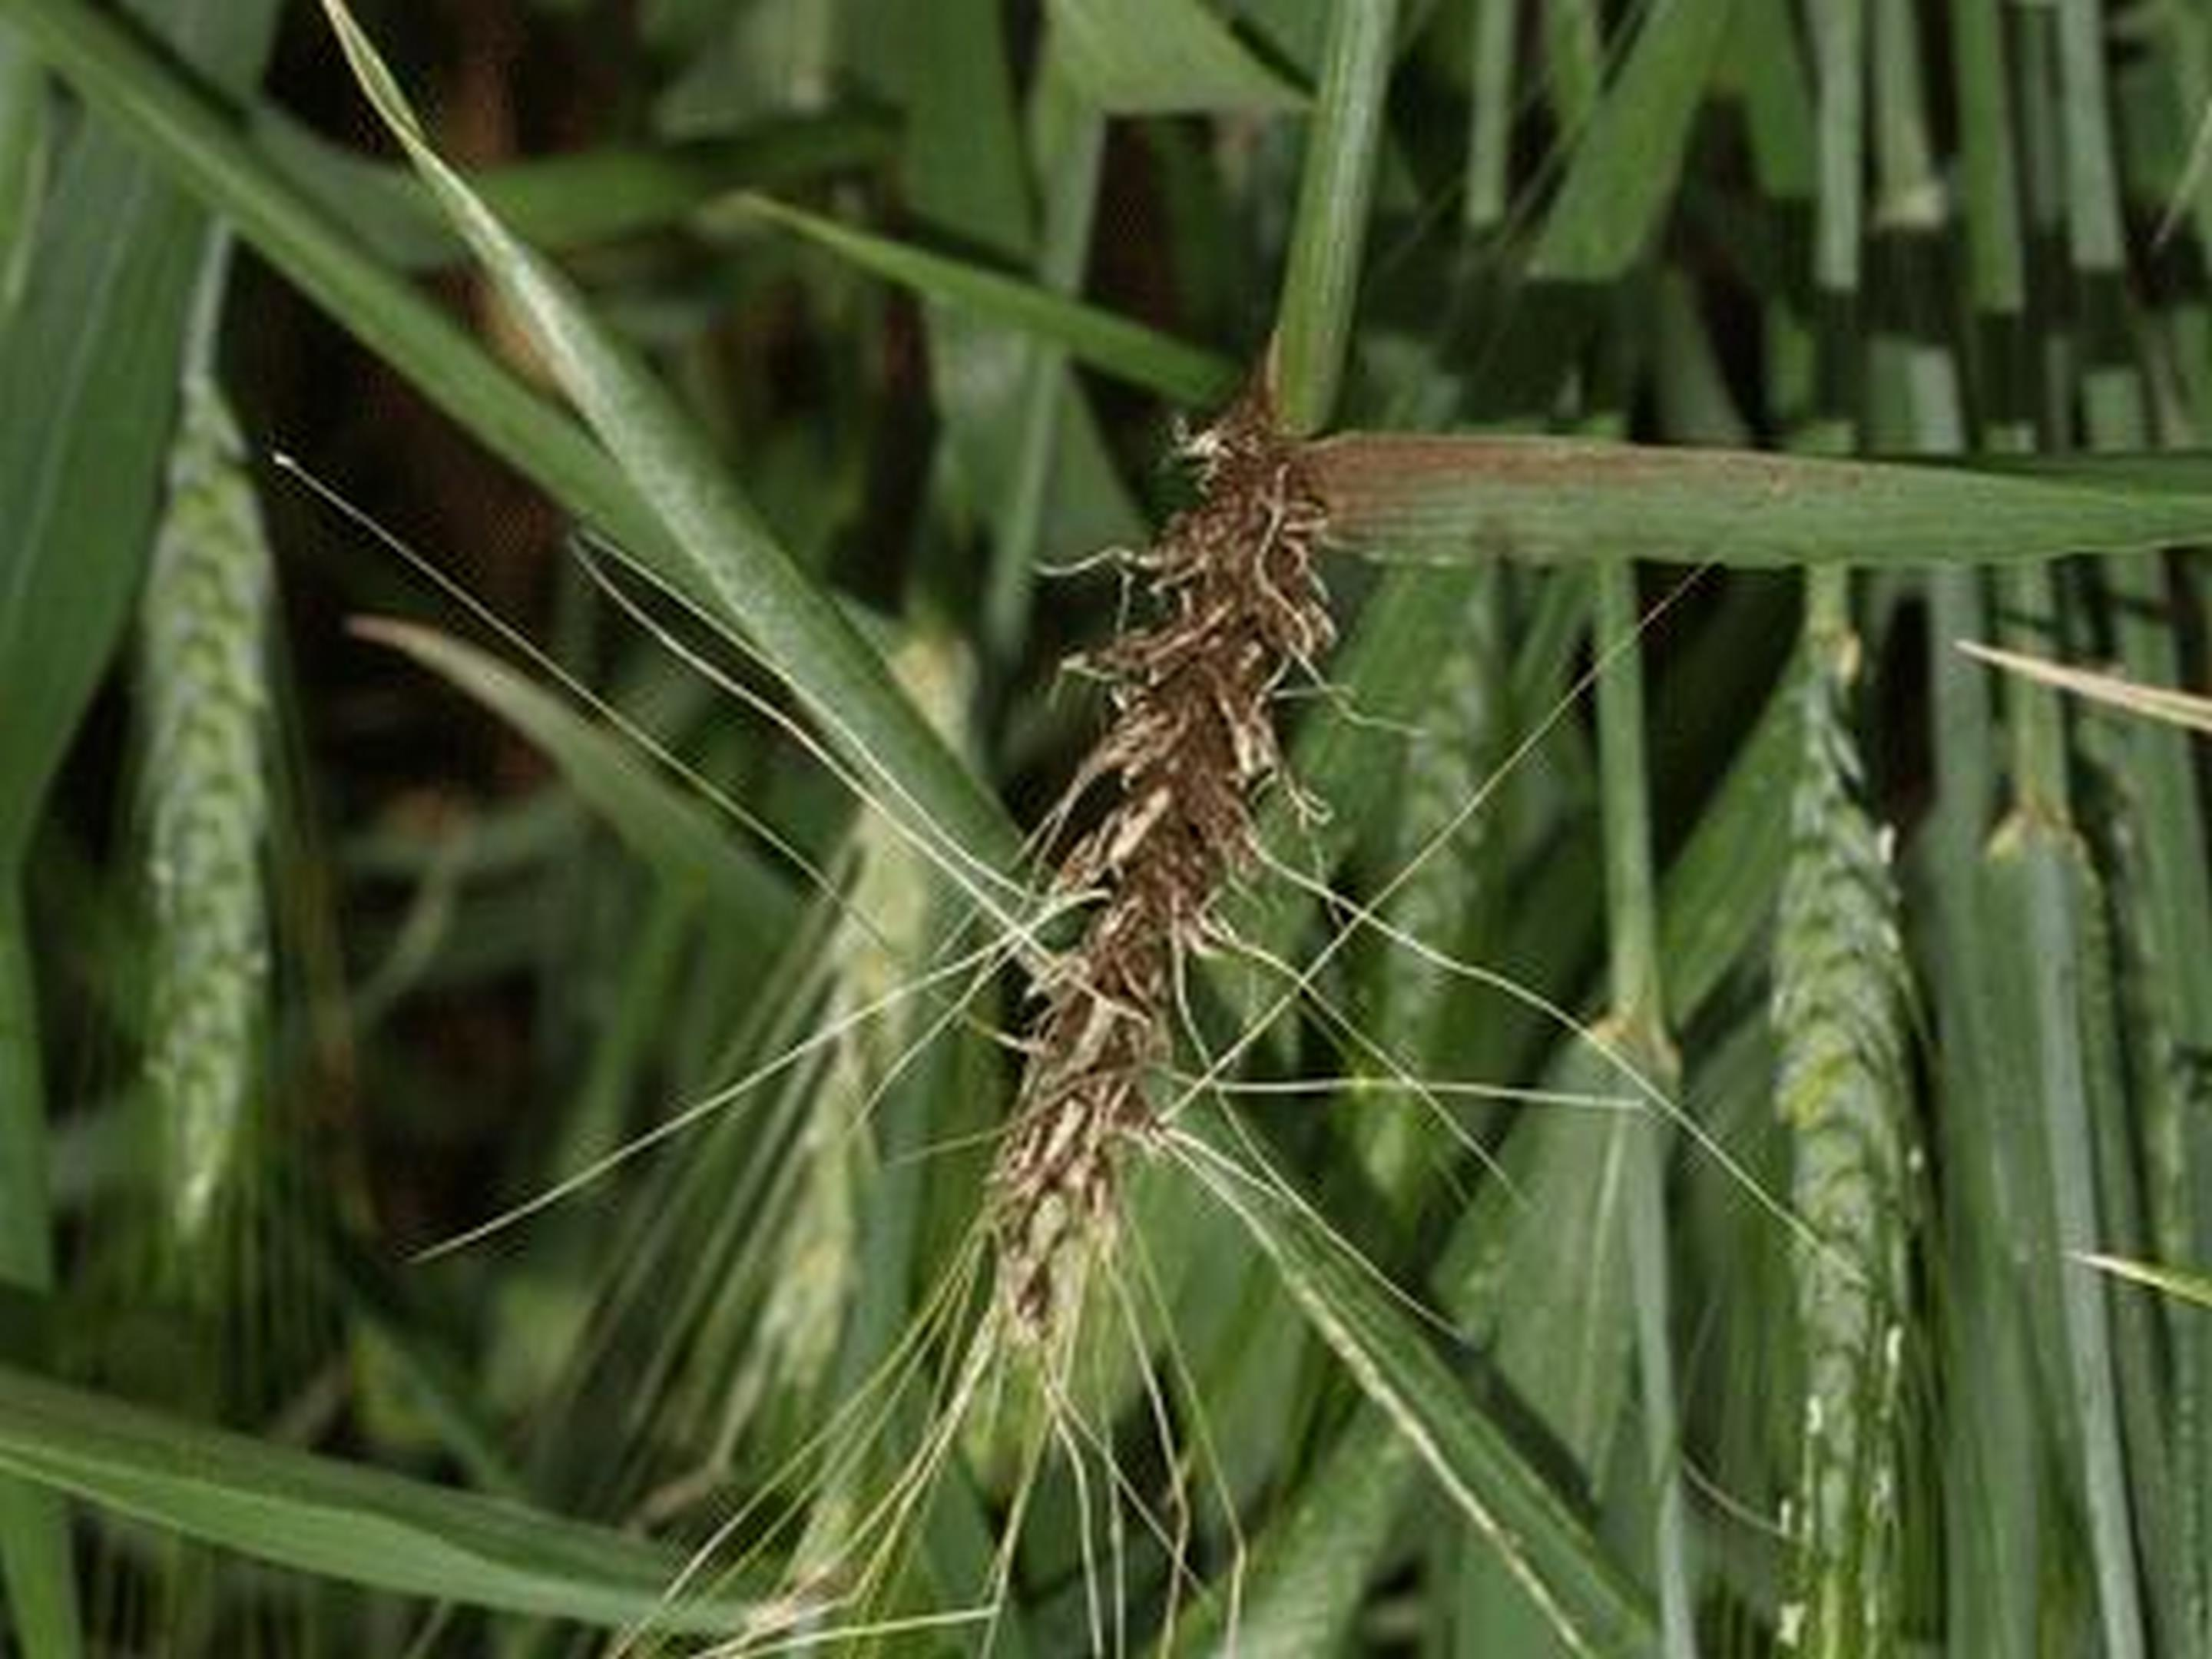Wheat Loose Smut: (953, 436, 1348, 1344)
